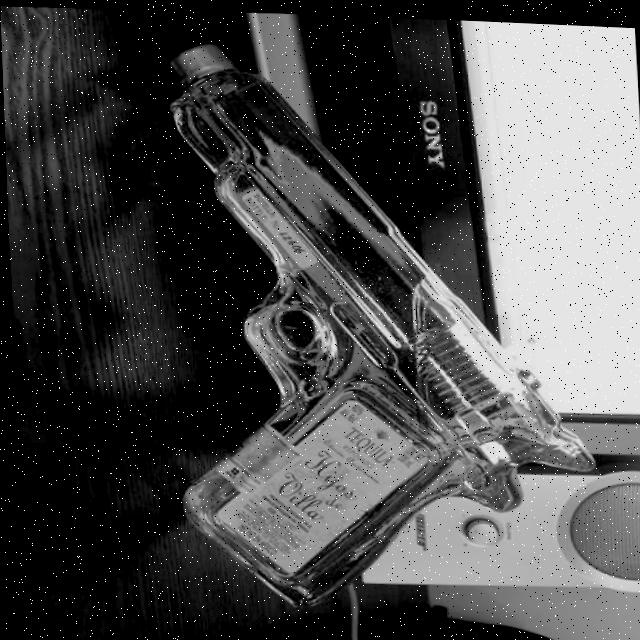pistol: (152, 36, 596, 614)
